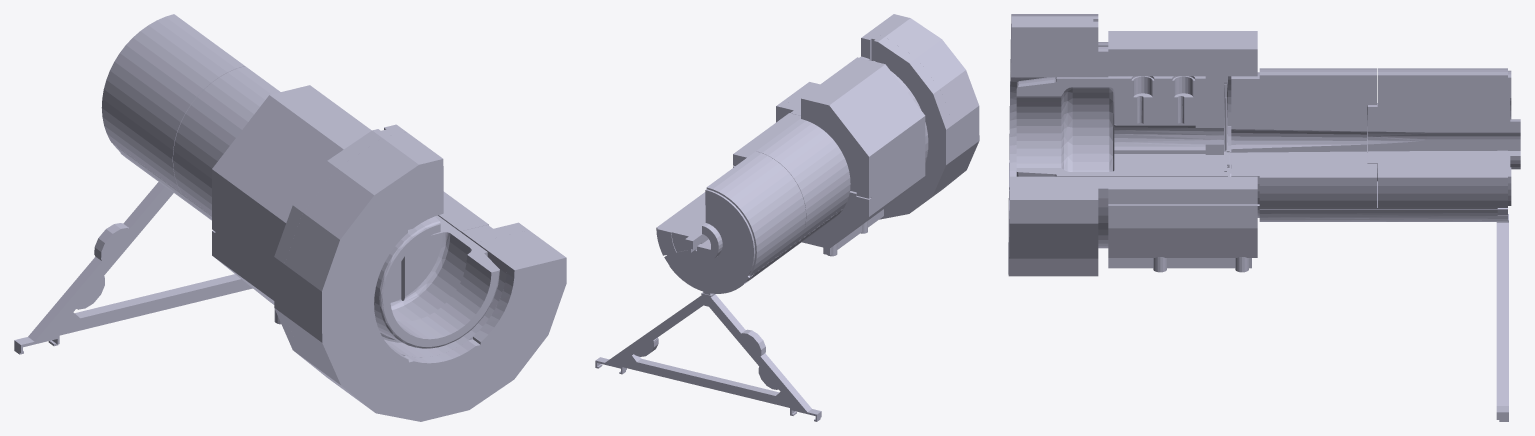
Rendered from Forward-Shielding-SideA-cut3.glb.
3 renders of one model, left to right at view 1: azimuth 30°, elevation 25°; view 2: azimuth 150°, elevation 25°; view 3: azimuth 270°, elevation 25°, orthographic. The views are drawn at different scales.
Visible parts, largest first — view 1: null; view 2: null; view 3: null.
Part boxes in pixels (x1,y1,x2,y2): null: (14, 14, 566, 421); null: (595, 14, 979, 421); null: (1008, 14, 1520, 421).
Bounding box in the file's own units: 6.83 × 7.18 × 10.31.
